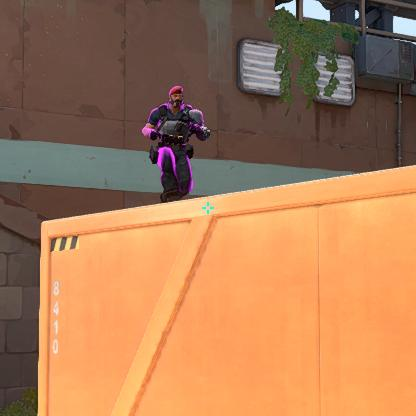enemyBody: (165, 109, 185, 145)
enemyHead: (171, 91, 182, 106)
